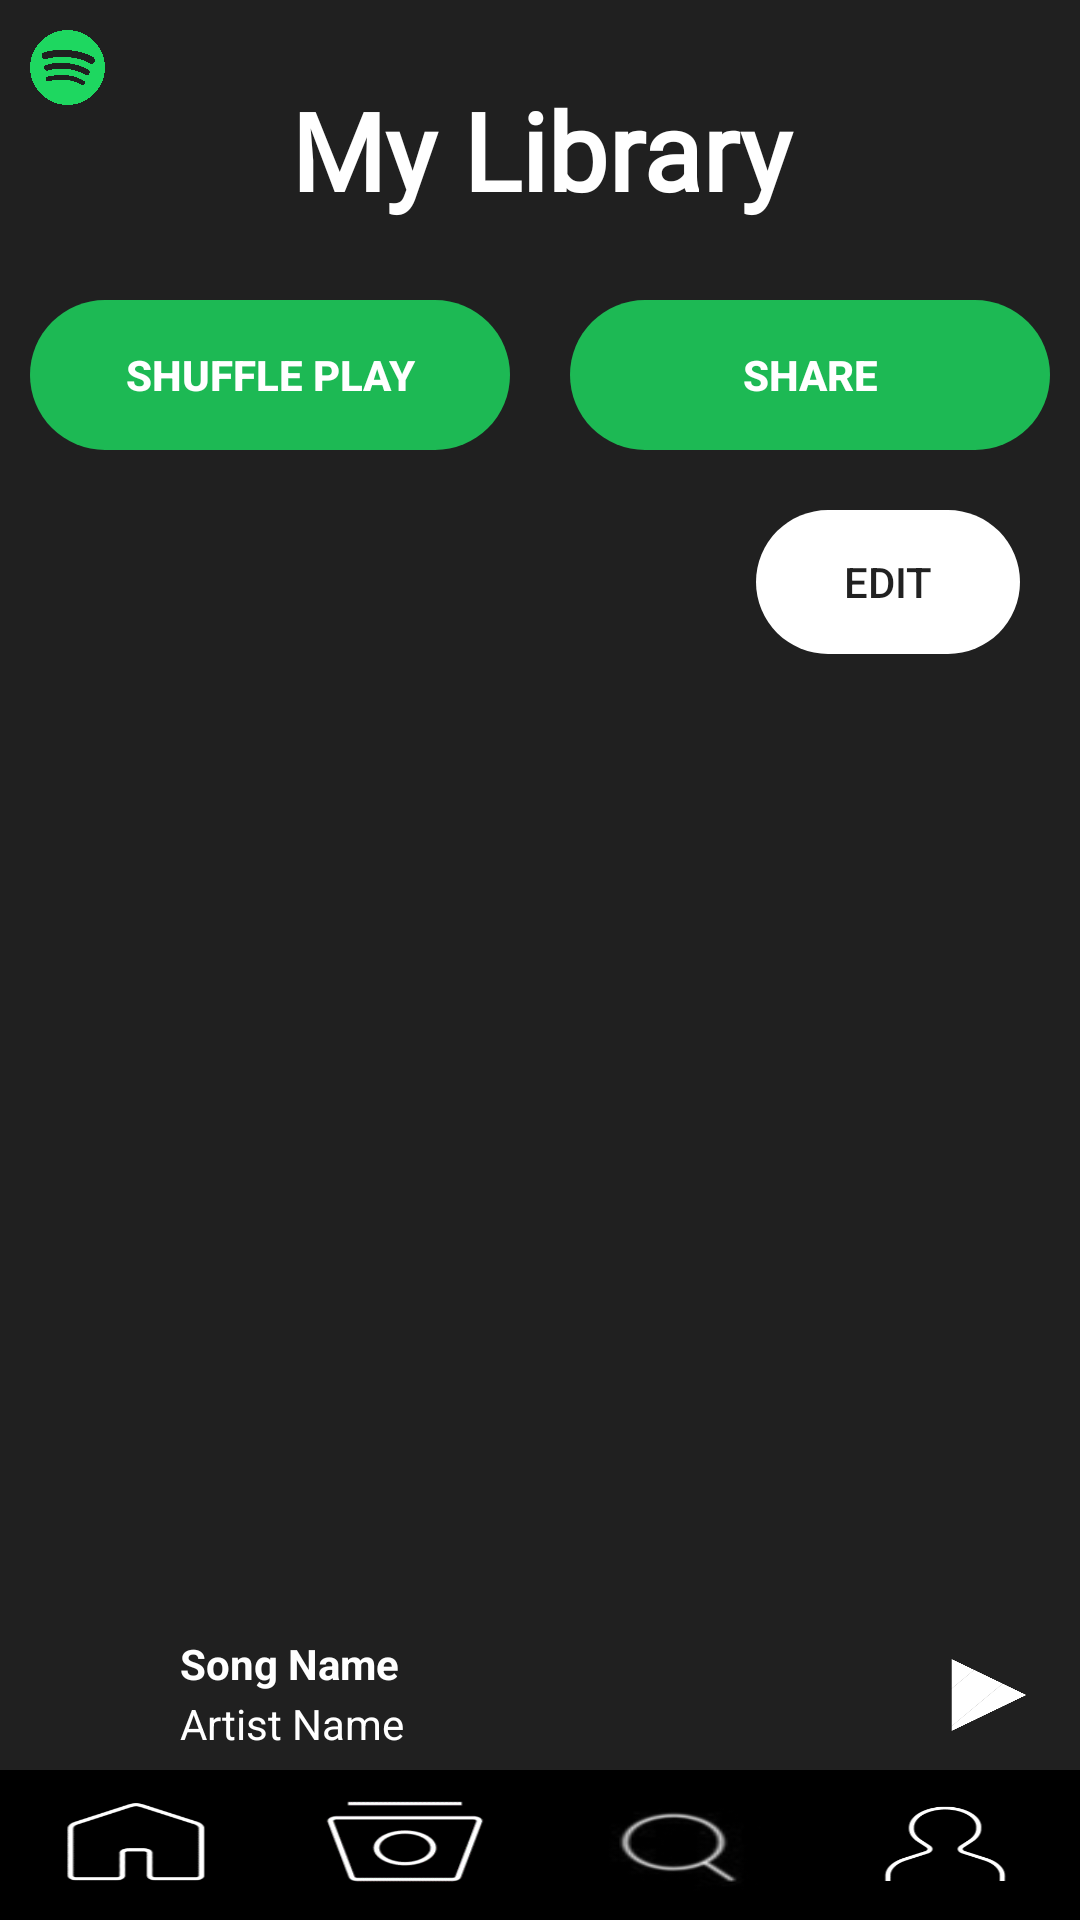

Icon click points for this 1080px×1920px phone screenshot, format (x,y):
home: (136,1842)
search: (678,1847)
